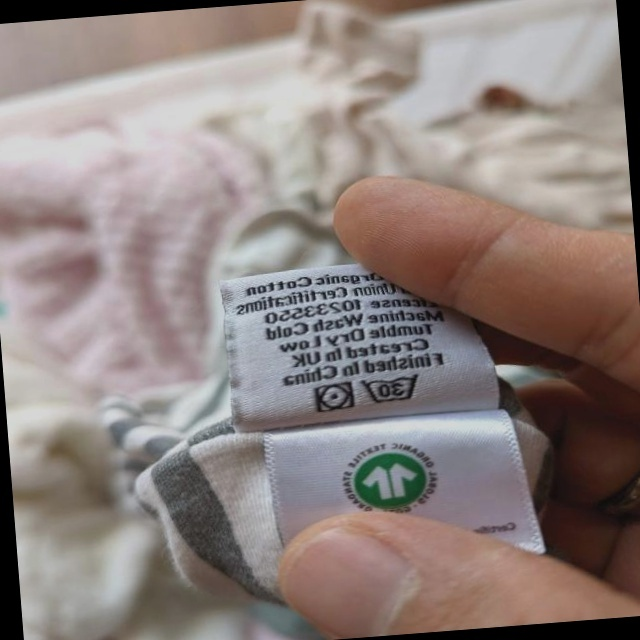30C: (358, 369, 426, 408)
tumble_dry_low: (311, 378, 357, 417)
